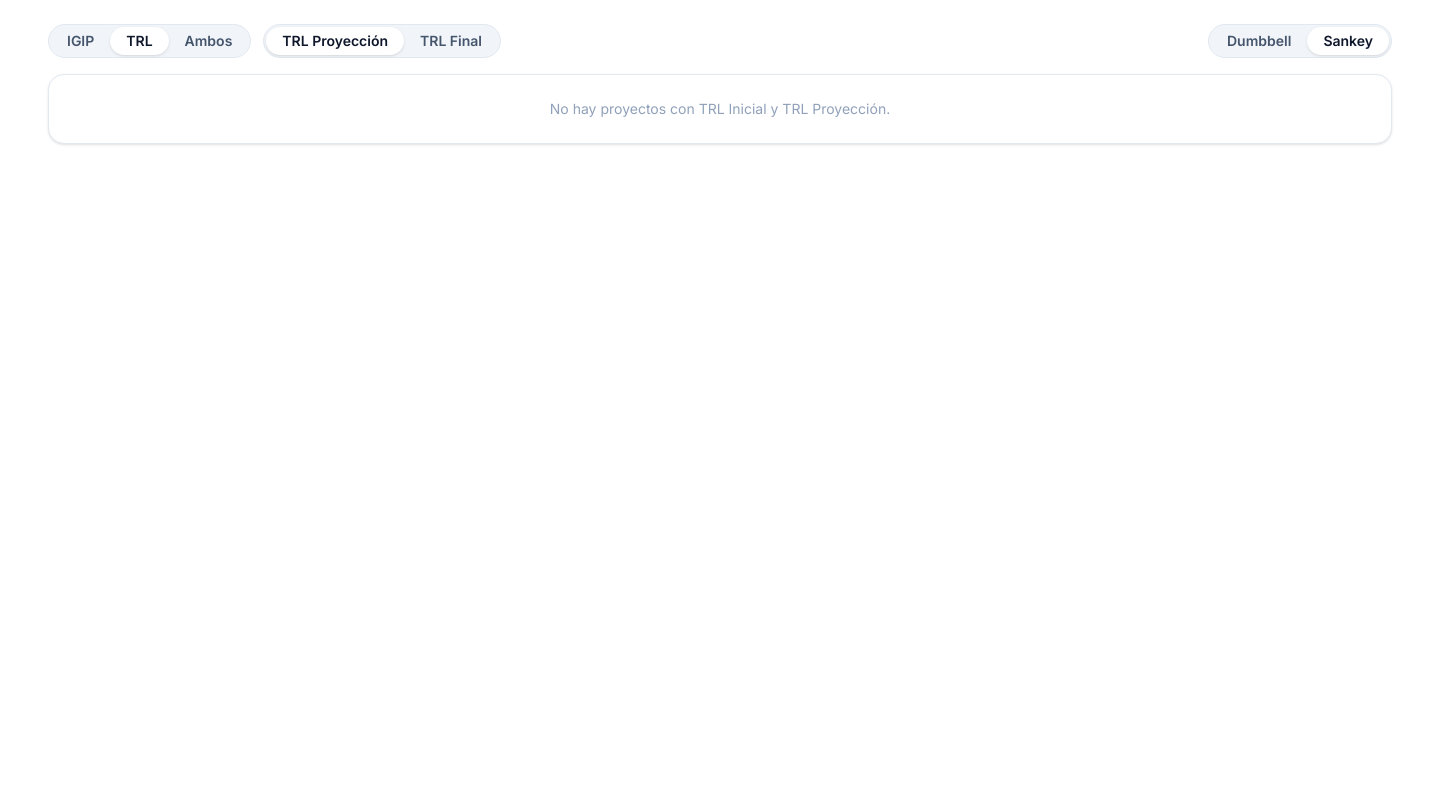
Test: VitrinaIndicadoresDashboard › en Dumbbell IGIP usa el índice por defecto y pasa a notas 0–4 con Originalidad
Click the tab "IGIP" at (81, 41), box [51,27,110,55]
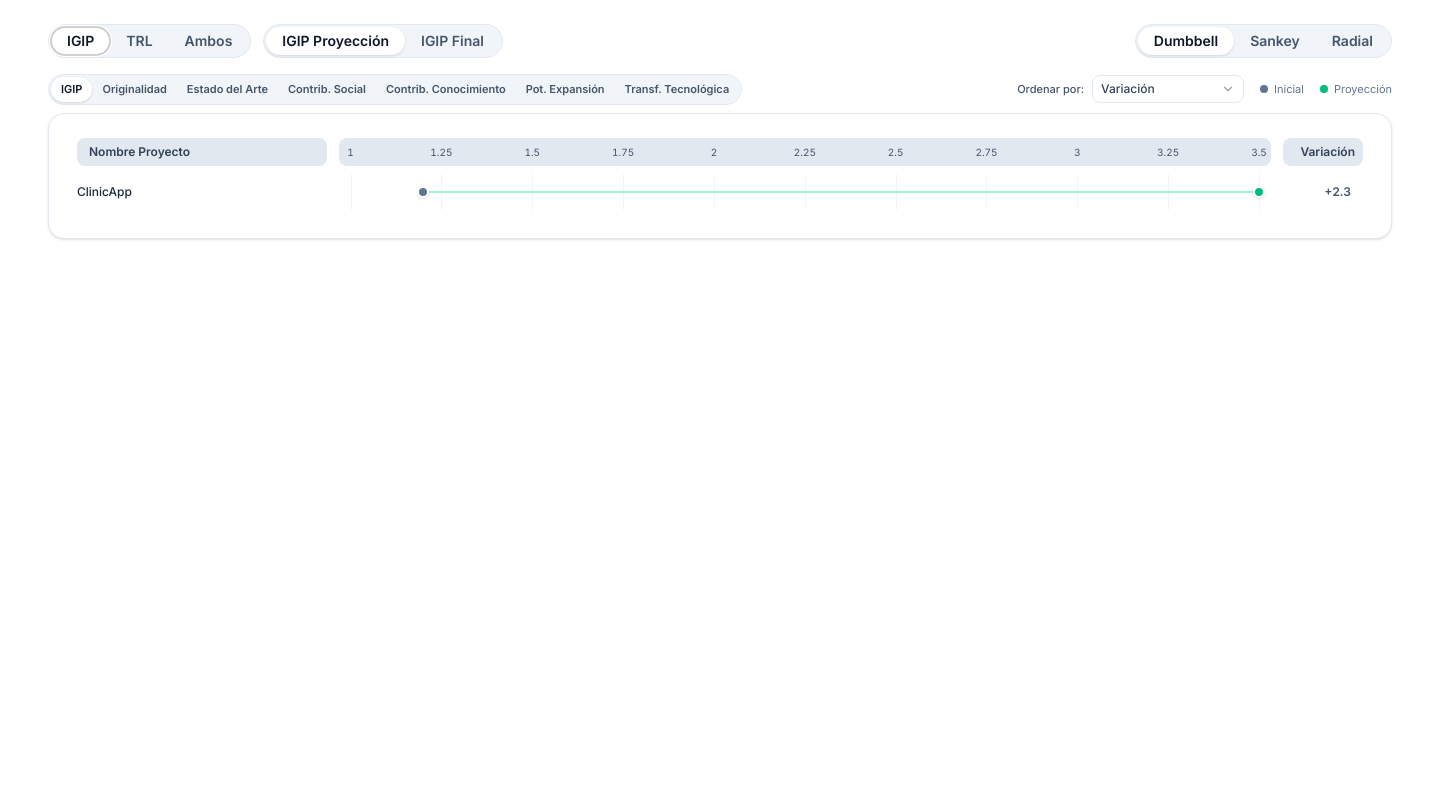
Expected: the picture named "IGIP 1.2 → 3.5: ClinicApp" is shown, [77,184,1351,198]
Expected: the text "1.5" is shown, [524,144,540,159]
Click the tab "Originalidad" at (135, 89), box [92,77,177,102]
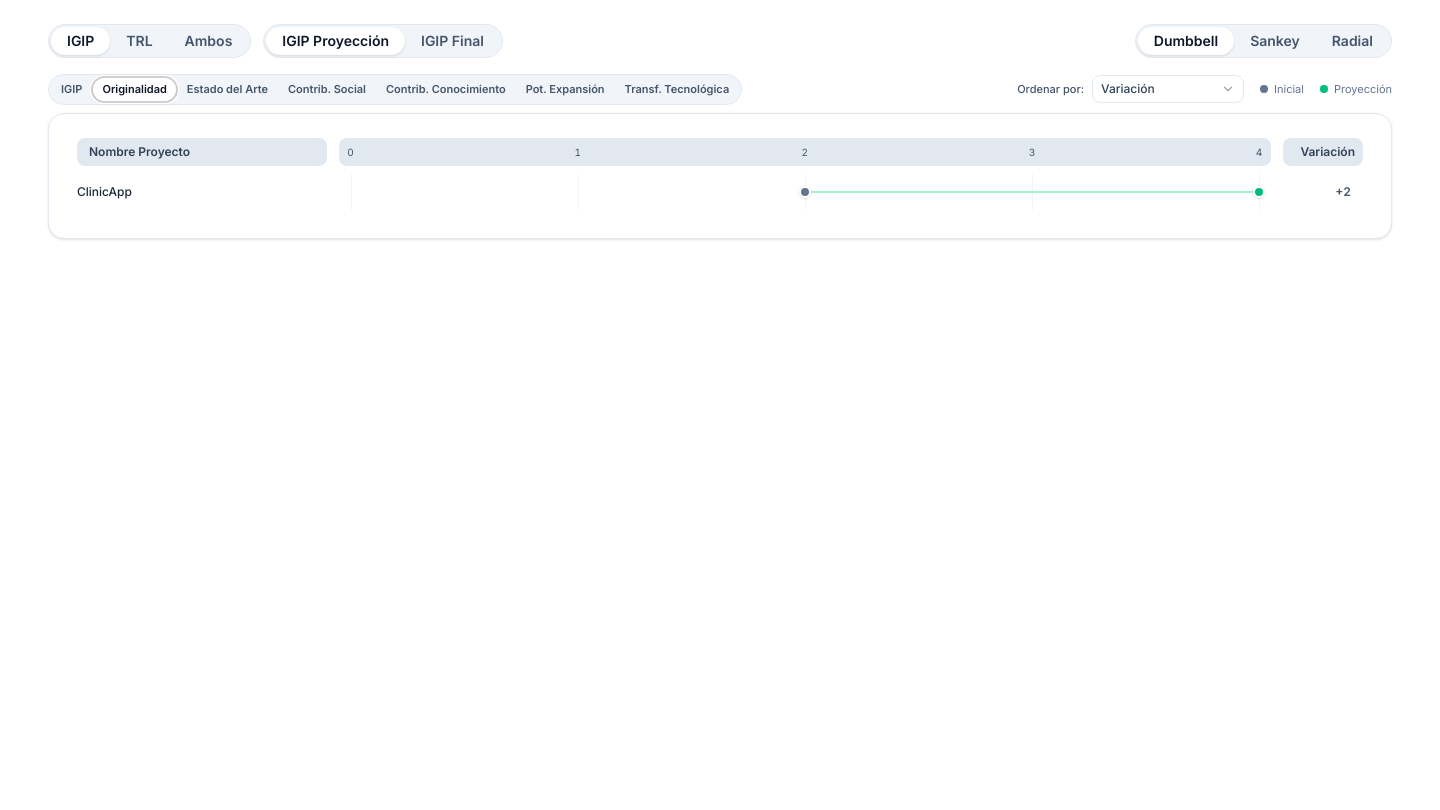
Expected: the element named "Avance Originalidad desde Inicial hacia Originalidad Proyección" is shown, [73,138,1367,214]
Expected: the picture named "Originalidad 2 → 4: ClinicApp" is shown, [77,184,1351,198]
Expected: the elements with test id "dumbbell-axis-tick" read "0", "1", "2", "3", "4", in this order, [347,144,354,159]; [574,144,581,159]; [802,144,808,159]; [1029,144,1035,159]; [1256,144,1262,159]
